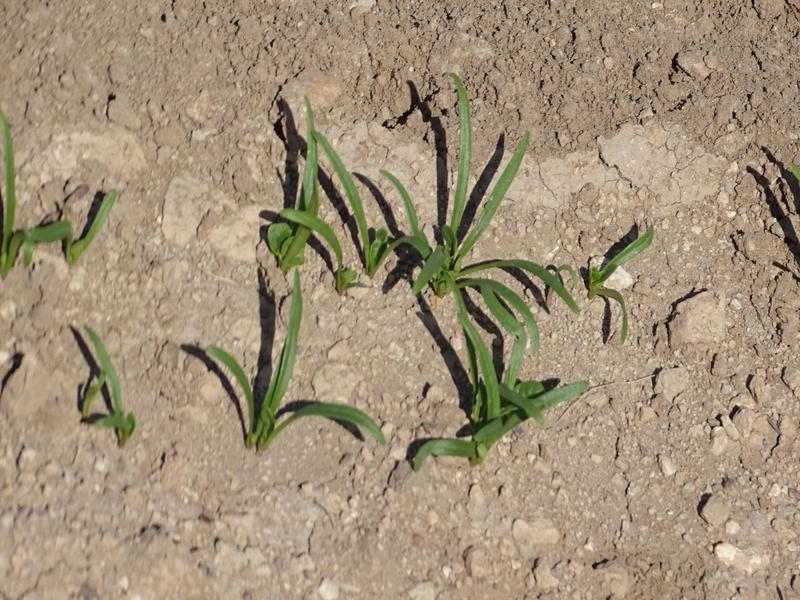Espinaca: (228, 121, 644, 471), (1, 178, 129, 267), (76, 327, 145, 449)
